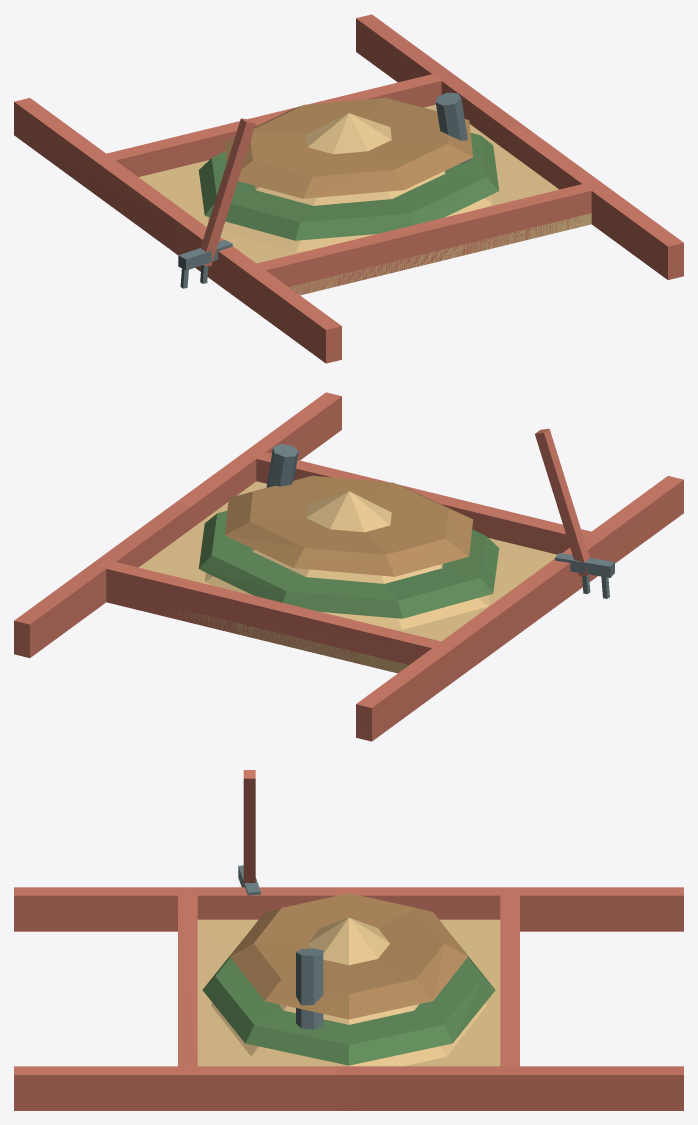
The model's file is Compost-Pile.glb.
3 views of the same model, one above another, from view 1: azimuth 30°, elevation 25°; view 2: azimuth 150°, elevation 25°; view 3: azimuth 270°, elevation 25° (orthographic). The views are drawn at different scales.
Parts seen in each view (by area): view 1: compost-pile-static-compost-weathered-timber, compost-pile-static-compost-organic-green, compost-pile-static-compost-dark-soil, compost-pile-static-compost-dry-leaf-ochre, compost-pile-static-compost-aeration-pipe; view 2: compost-pile-static-compost-weathered-timber, compost-pile-static-compost-organic-green, compost-pile-static-compost-dark-soil, compost-pile-static-compost-dry-leaf-ochre, compost-pile-static-compost-aeration-pipe; view 3: compost-pile-static-compost-weathered-timber, compost-pile-static-compost-organic-green, compost-pile-static-compost-dark-soil, compost-pile-static-compost-dry-leaf-ochre, compost-pile-static-compost-aeration-pipe.
Boxes of the visible parts, <box> form: compost-pile-static-compost-weathered-timber: <box>14,14,683,363</box>; compost-pile-static-compost-organic-green: <box>224,97,472,198</box>; compost-pile-static-compost-dark-soil: <box>139,104,591,295</box>; compost-pile-static-compost-dry-leaf-ochre: <box>198,133,499,240</box>; compost-pile-static-compost-aeration-pipe: <box>178,92,470,288</box>; compost-pile-static-compost-weathered-timber: <box>14,392,683,741</box>; compost-pile-static-compost-organic-green: <box>225,475,473,576</box>; compost-pile-static-compost-dark-soil: <box>139,481,557,673</box>; compost-pile-static-compost-dry-leaf-ochre: <box>198,511,499,618</box>; compost-pile-static-compost-aeration-pipe: <box>266,444,614,598</box>; compost-pile-static-compost-weathered-timber: <box>14,770,683,1110</box>; compost-pile-static-compost-organic-green: <box>230,893,467,1019</box>; compost-pile-static-compost-dark-soil: <box>197,917,500,1066</box>; compost-pile-static-compost-dry-leaf-ochre: <box>202,941,495,1065</box>; compost-pile-static-compost-aeration-pipe: <box>238,865,323,1029</box>.
Size of the model in its own units: 4.44 by 1.68 by 6.07.
